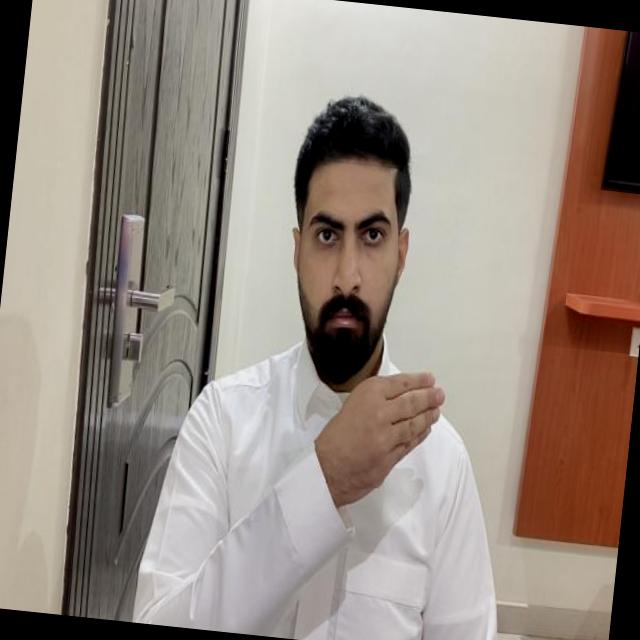result: (308, 358, 448, 516)
